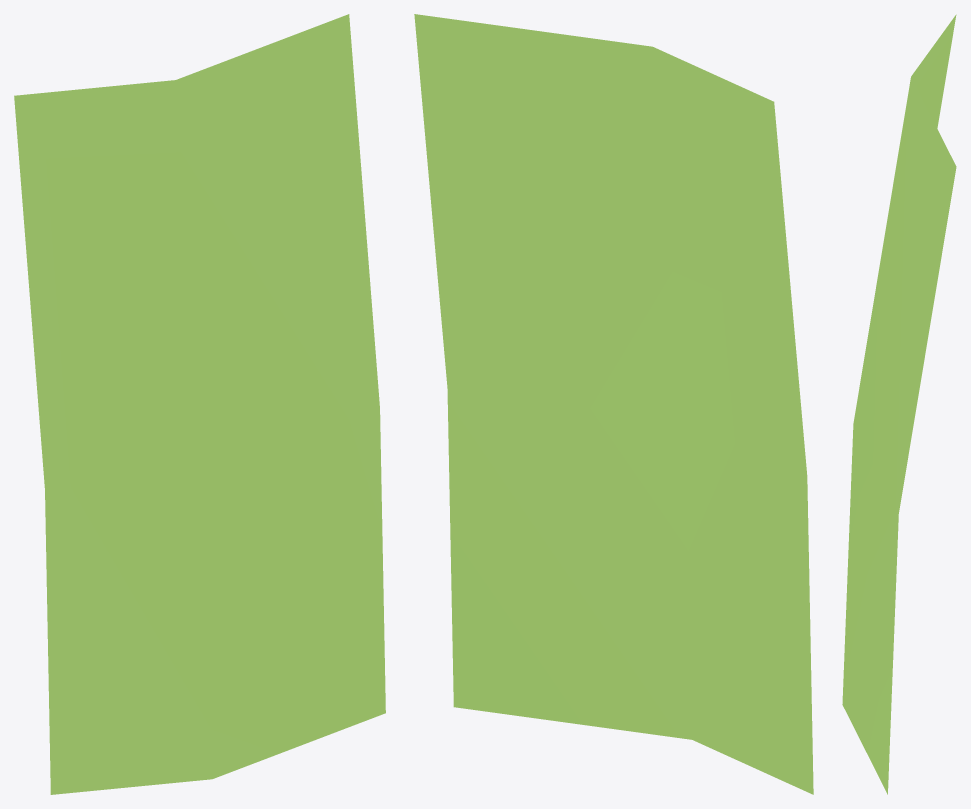
Rendered from GrassPlane_a_OneS_01.fbx.
3 views of the same model, side by side, from view 1: azimuth 30°, elevation 25°; view 2: azimuth 150°, elevation 25°; view 3: azimuth 270°, elevation 25° (orthographic). The views are drawn at different scales.
Parts seen in each view (by area): view 1: GrassPlane_a_OneS_01; view 2: GrassPlane_a_OneS_01; view 3: GrassPlane_a_OneS_01.
Part boxes in pixels (x1,y1,x2,y2): GrassPlane_a_OneS_01: (14, 14, 385, 794); GrassPlane_a_OneS_01: (414, 14, 813, 794); GrassPlane_a_OneS_01: (842, 14, 956, 794).
Bounding box in the file's own units: 0.3463 × 0.664 × 0.1092.
